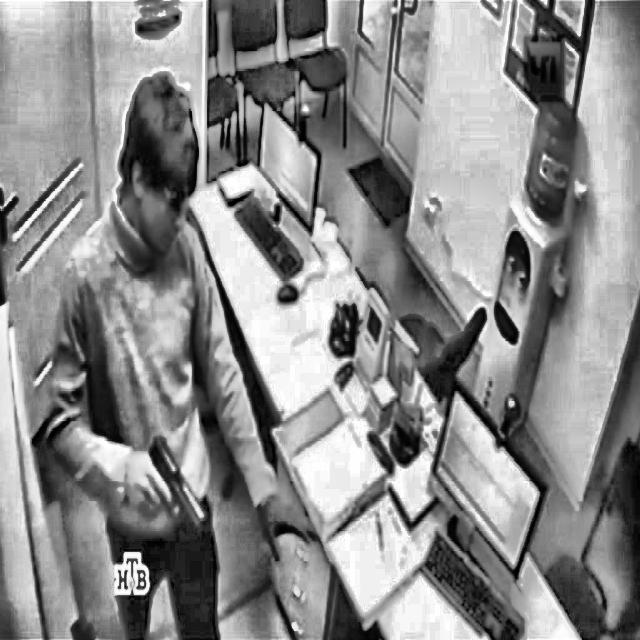pistol: (134, 433, 214, 539)
robbery: (36, 62, 334, 639)
